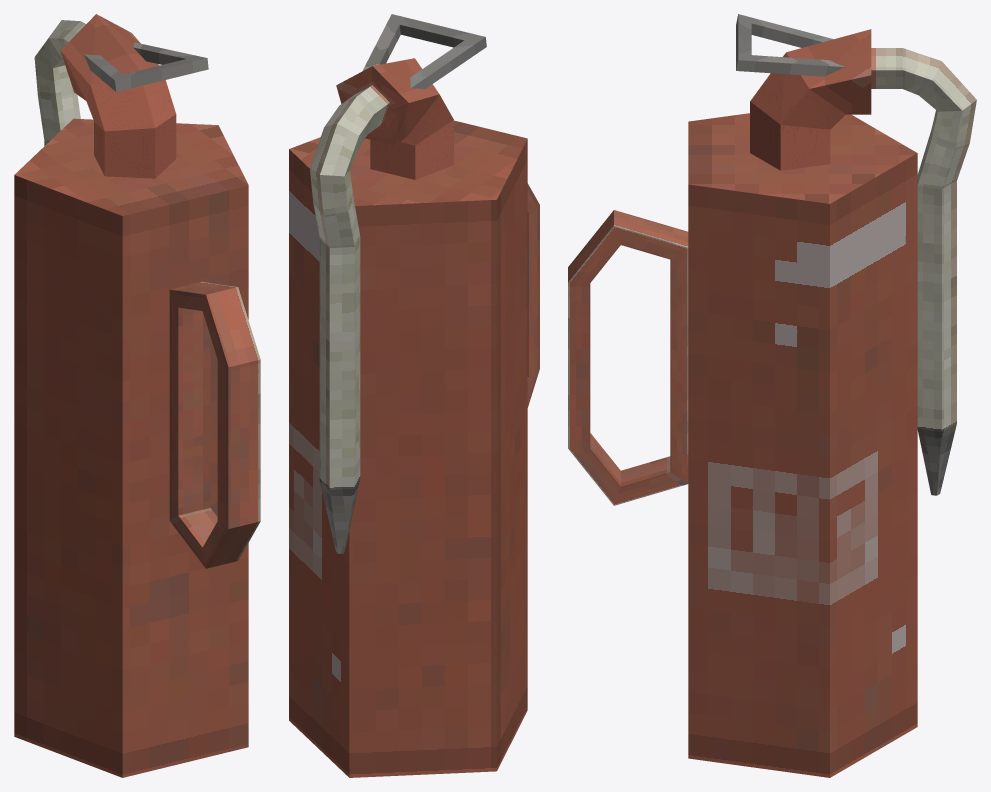
Rendered from OldFireExtinguisher01.obj.
3 renders of one model, left to right at view 1: azimuth 30°, elevation 25°; view 2: azimuth 150°, elevation 25°; view 3: azimuth 270°, elevation 25°, orthographic. The views are drawn at different scales.
Parts seen in each view (by area): view 1: OldFireExtinguisher01; view 2: OldFireExtinguisher01; view 3: OldFireExtinguisher01.
Boxes of the visible parts, <box> form: OldFireExtinguisher01: <box>14,14,260,777</box>; OldFireExtinguisher01: <box>289,14,539,777</box>; OldFireExtinguisher01: <box>568,14,976,777</box>.
Size of the model in its own units: 0.2979 by 0.9522 by 0.5056.
